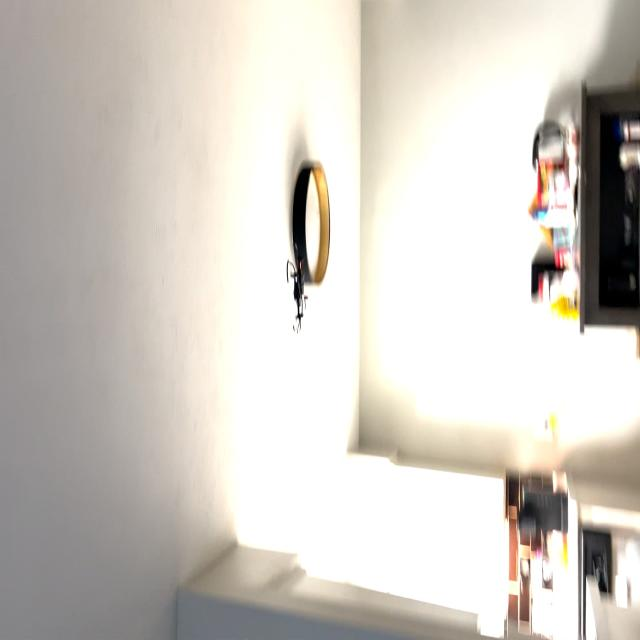drone: (279, 239, 315, 346)
